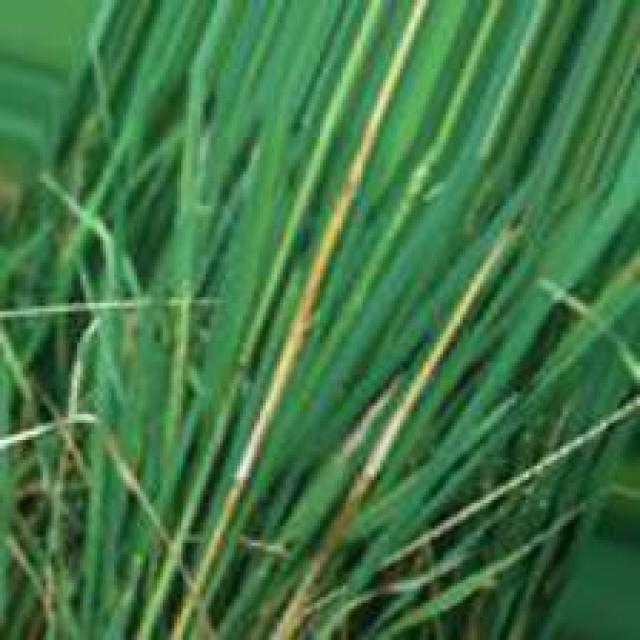Unhealthy: (235, 0, 433, 488)
